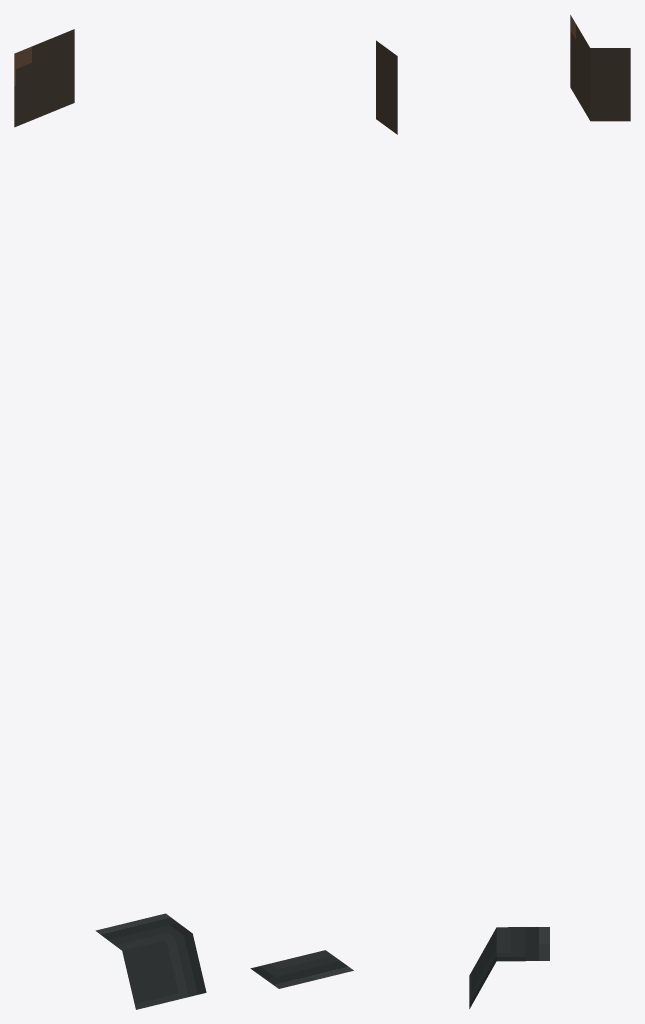
3 renders of one model, left to right at view 1: azimuth 30°, elevation 25°; view 2: azimuth 210°, elevation 25°; view 3: azimuth 270°, elevation 25°, orthographic. The views are drawn at different scales.
Bounding box in the file's own units: 1 × 6.33 × 1.
2 materials, 2 textured.
